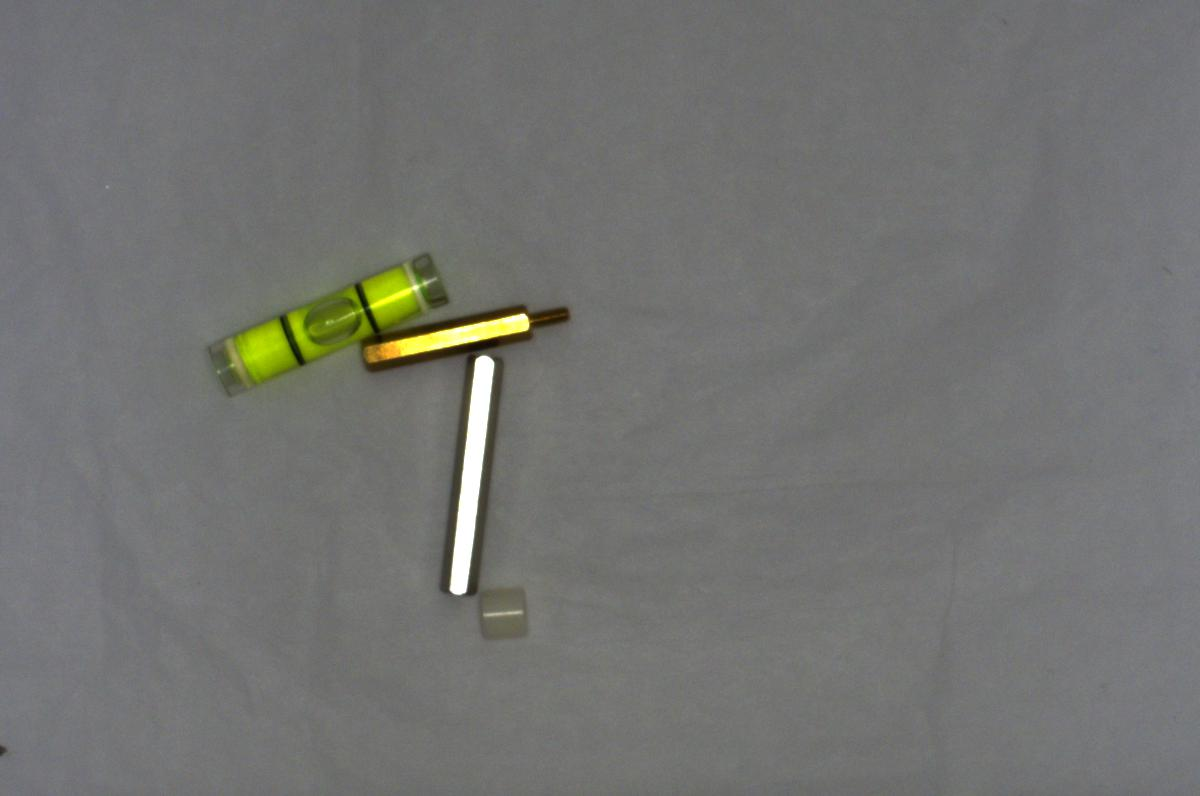Double hexagonal column: (438, 355, 502, 607)
Hexagon pillar: (358, 298, 580, 368)
Horizontal bubble: (202, 247, 450, 403)
Plastic cushion pillar: (472, 581, 539, 648)
